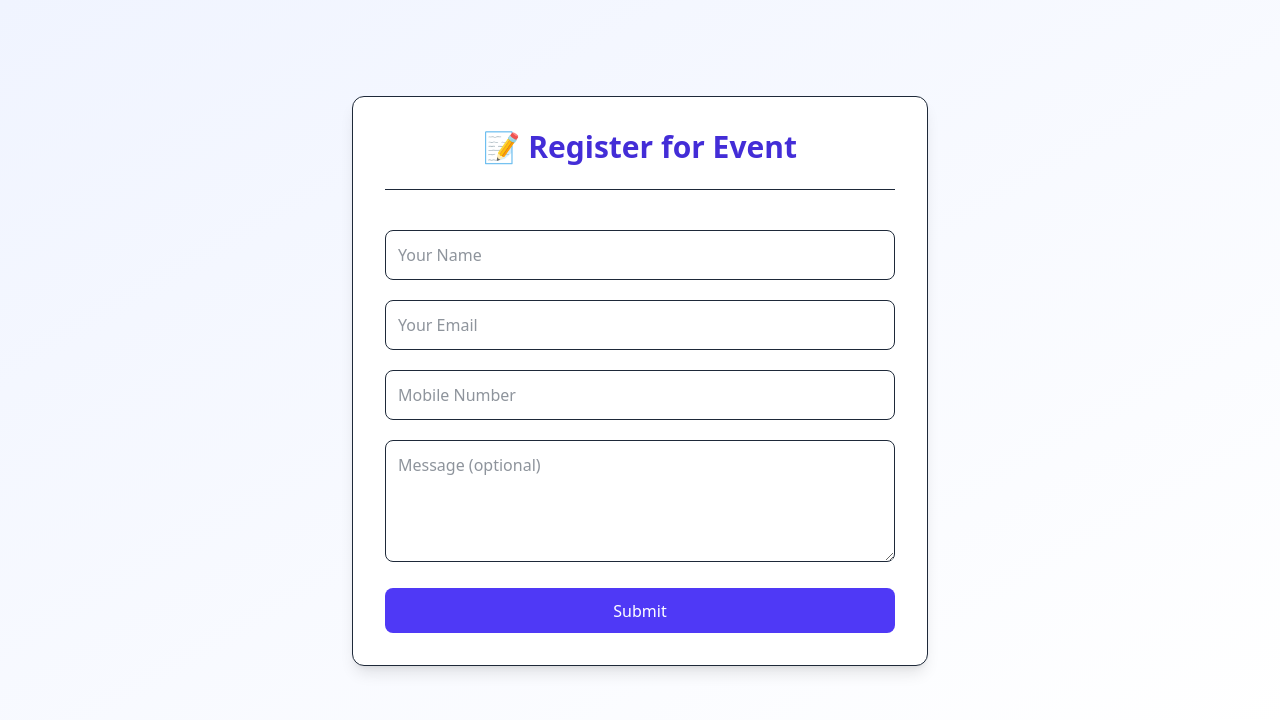
Test case: RegisterEvent Page › opens modal when form is valid
Type "Ram" into the field labelled "Your Name" at (640, 255), box [385, 230, 895, 280]
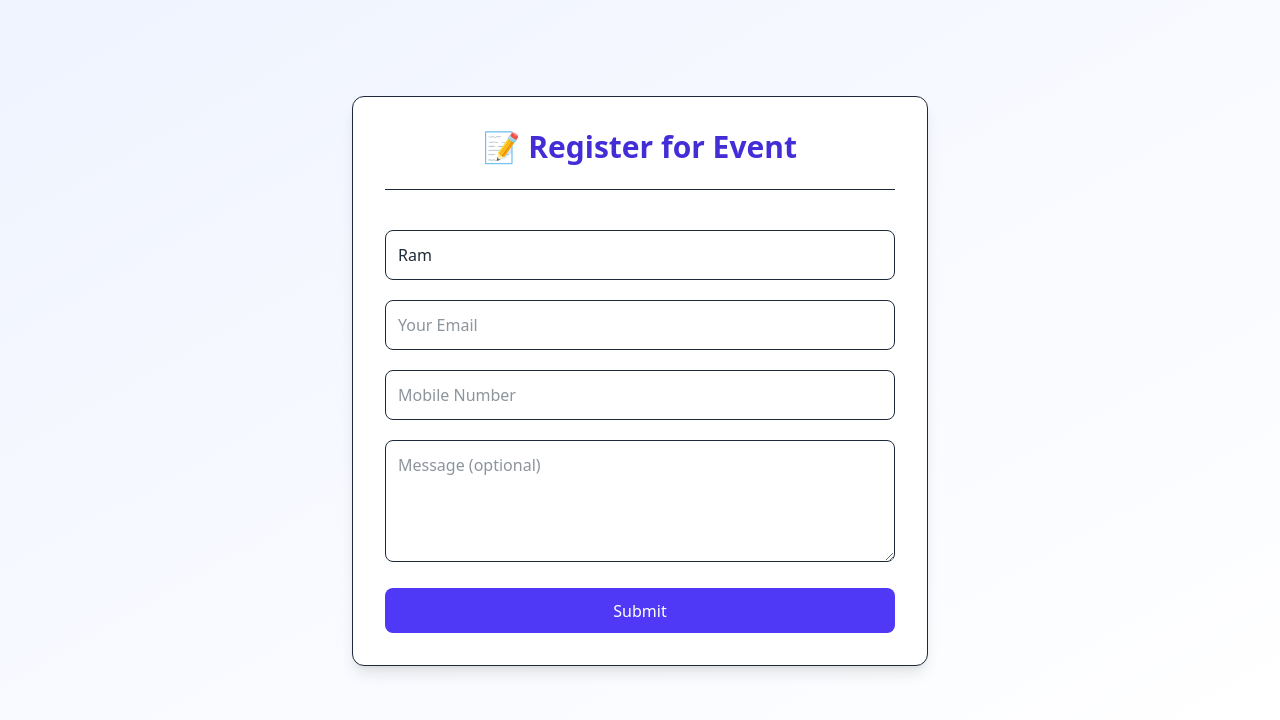
Type "ram@example.com" into the field labelled "Your Email" at (640, 325), box [385, 300, 895, 350]
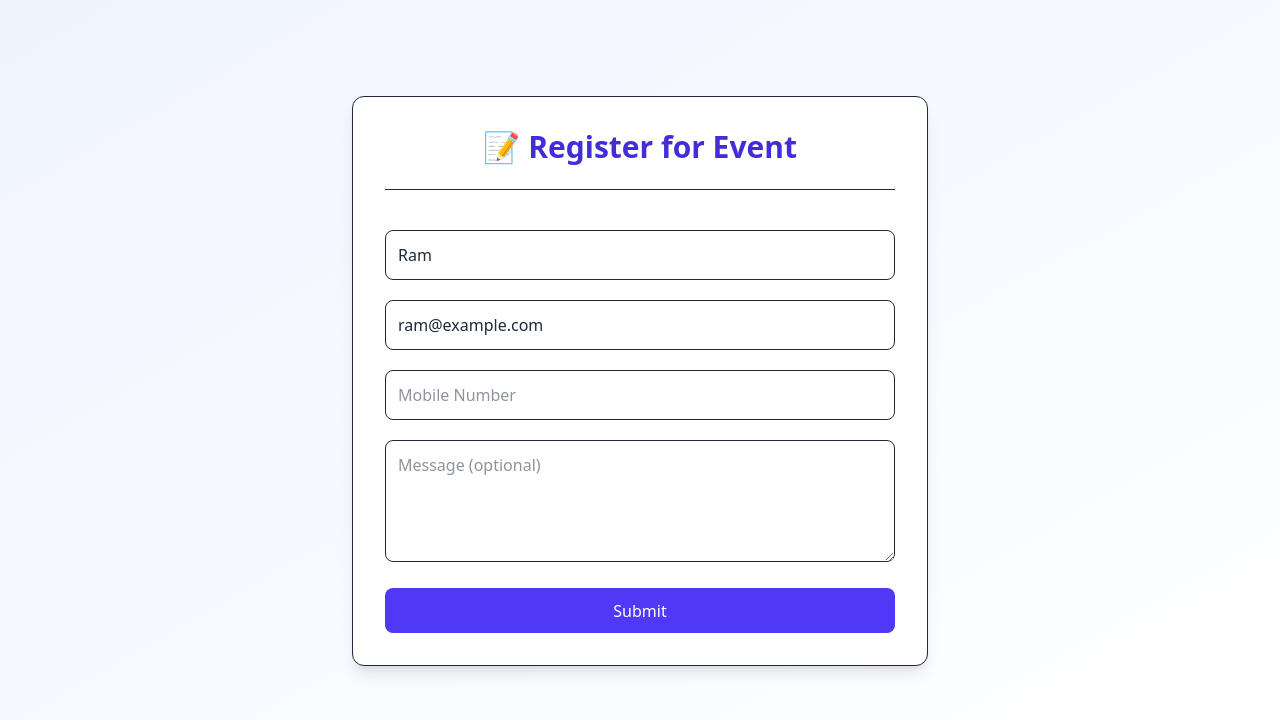
Type "9876543210" into the field labelled "Mobile Number" at (640, 395), box [385, 370, 895, 420]
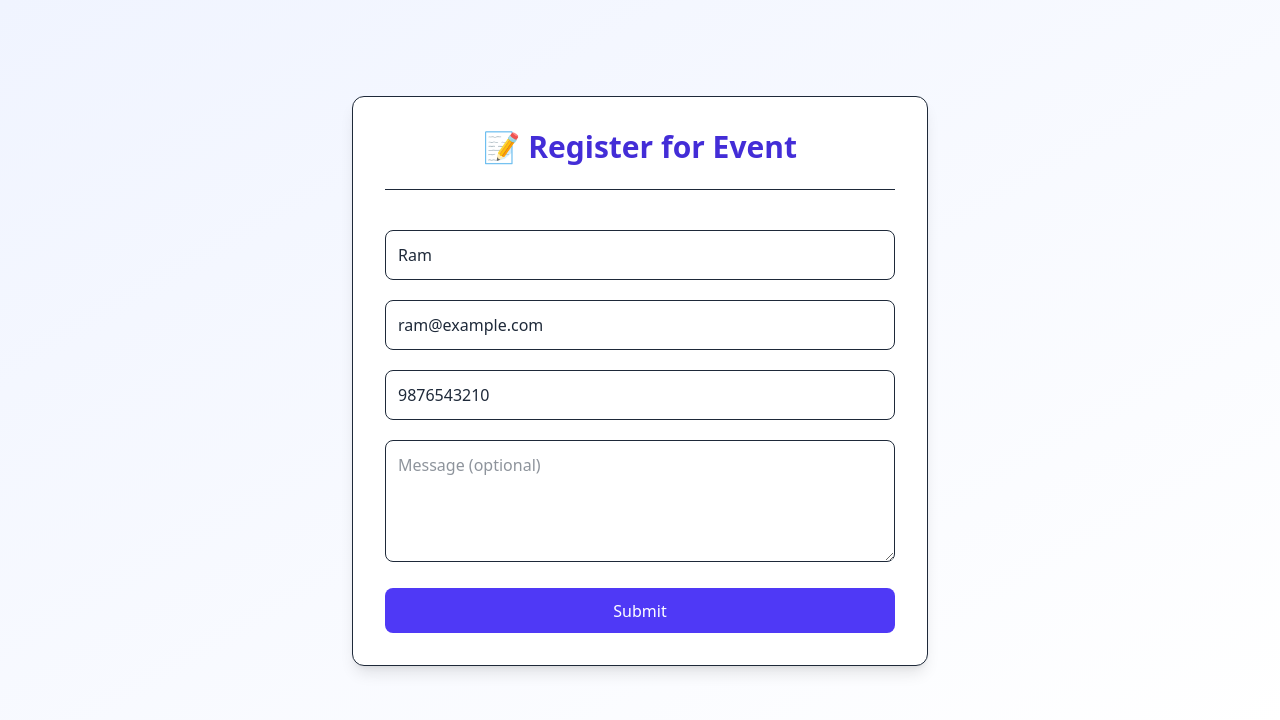
Click the button "Submit" at (640, 611), box [385, 588, 895, 633]
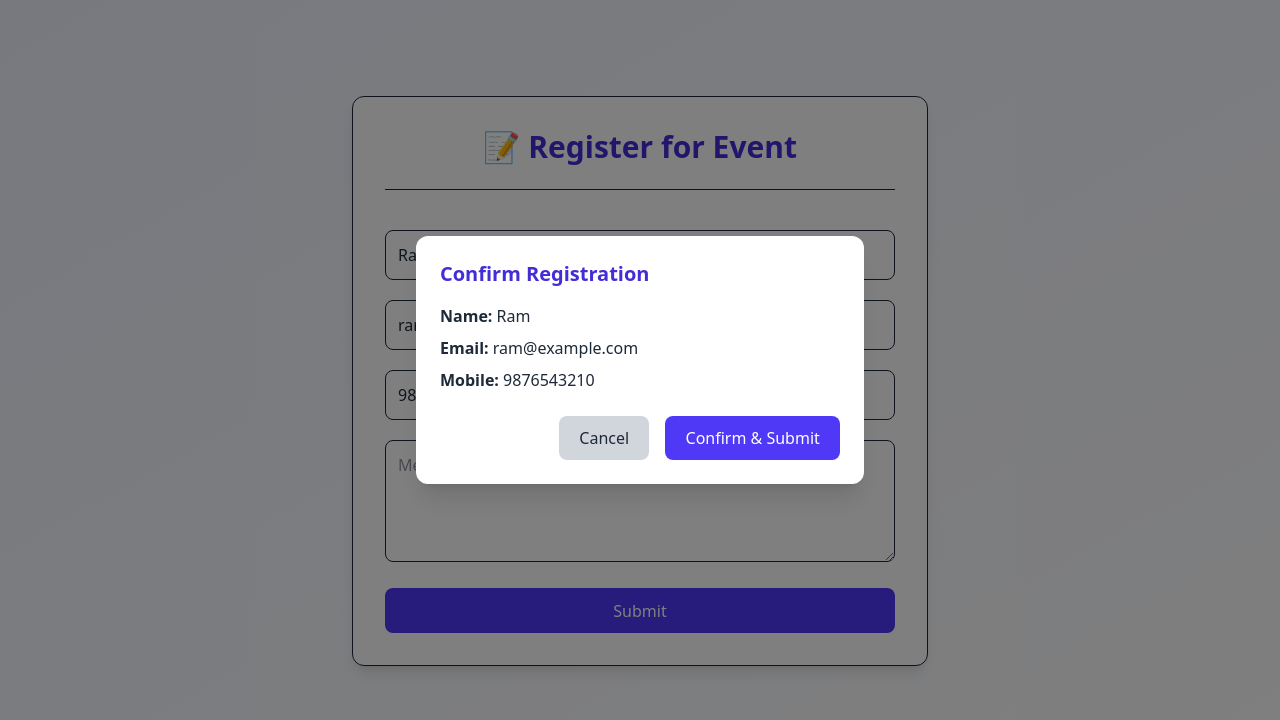
expect the dialog is shown: met
expect the heading "Confirm Registration" is shown: met, box [440, 260, 650, 287]
expect the text "Name: Ram" is shown: met, box [440, 305, 530, 327]
